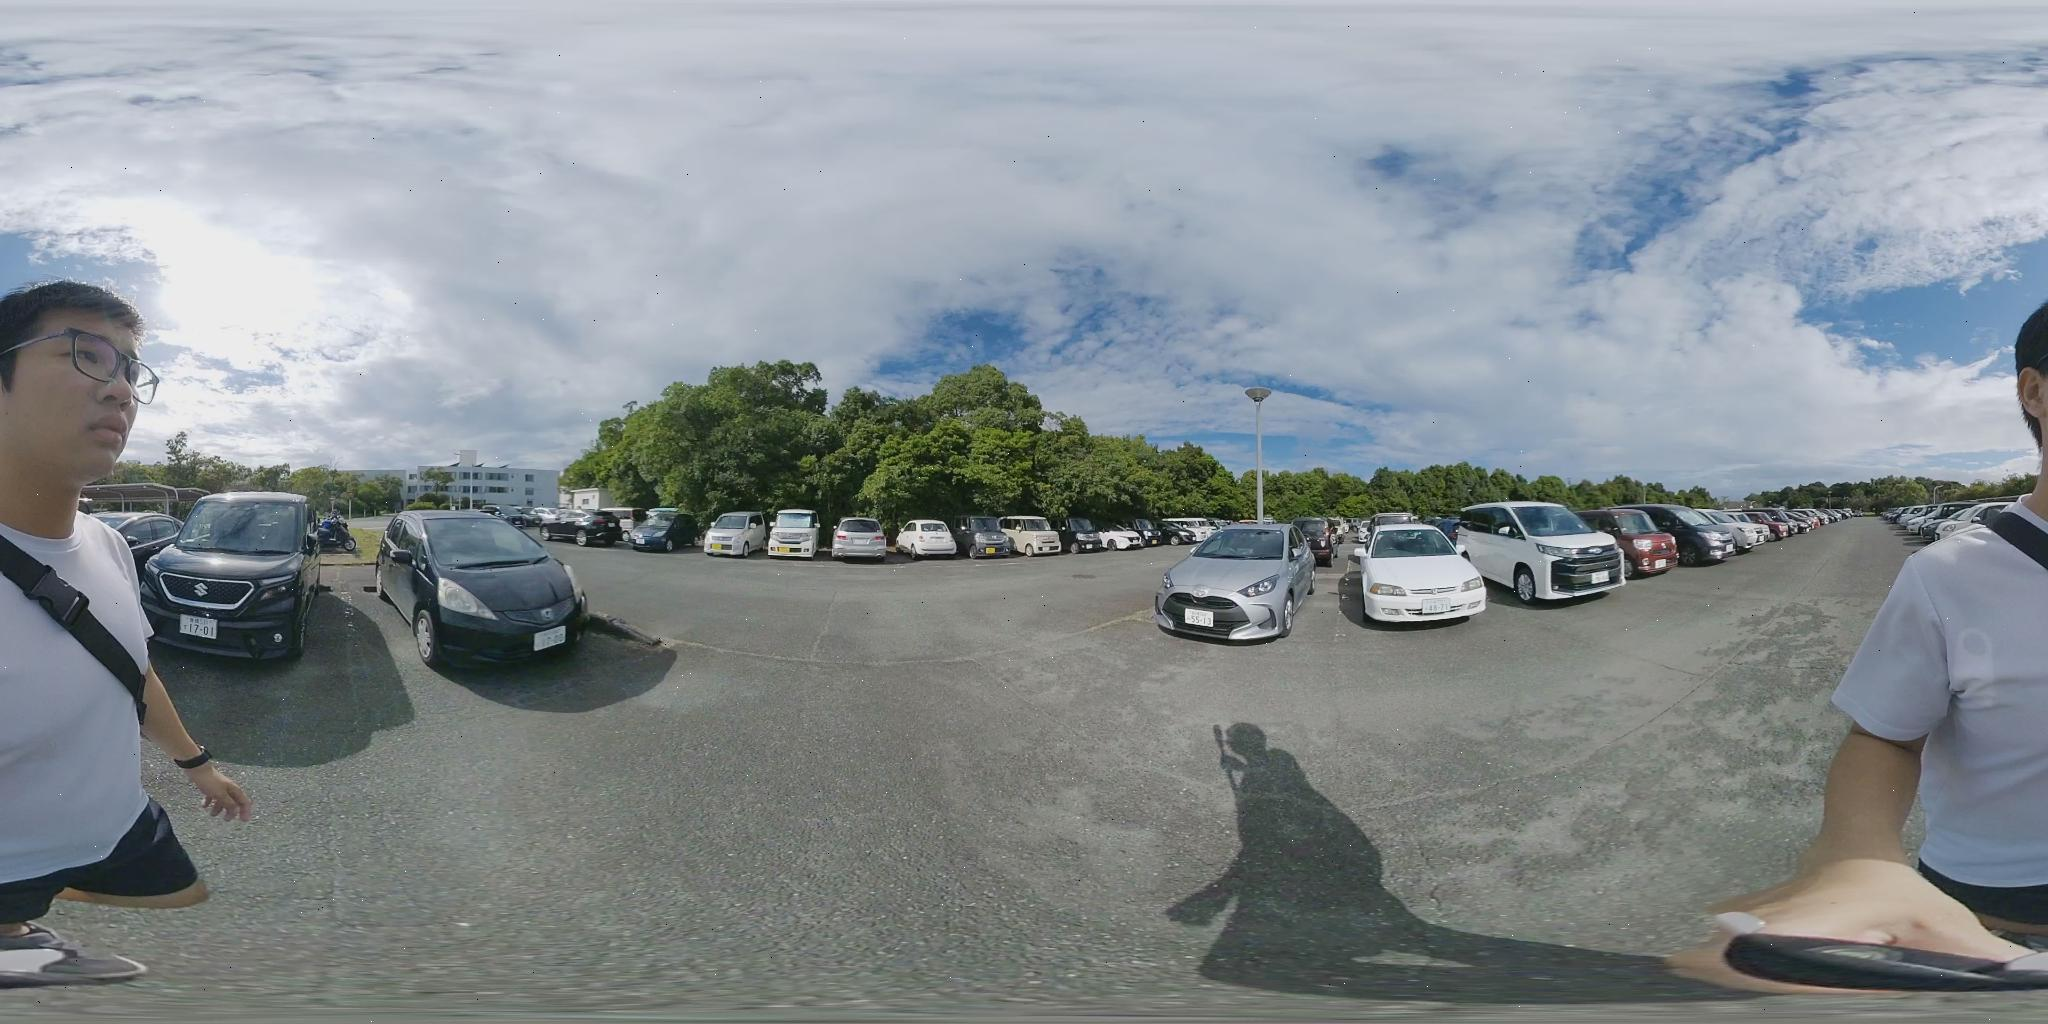car: (380, 511, 584, 666), (140, 492, 316, 664), (1152, 525, 1311, 644), (1458, 504, 1643, 603), (1347, 522, 1494, 630), (1591, 508, 1719, 572), (1698, 513, 1770, 556), (825, 519, 892, 564), (701, 512, 764, 556), (896, 519, 960, 558), (772, 508, 820, 559), (955, 515, 1007, 562), (999, 516, 1057, 554), (1752, 512, 1802, 542)
